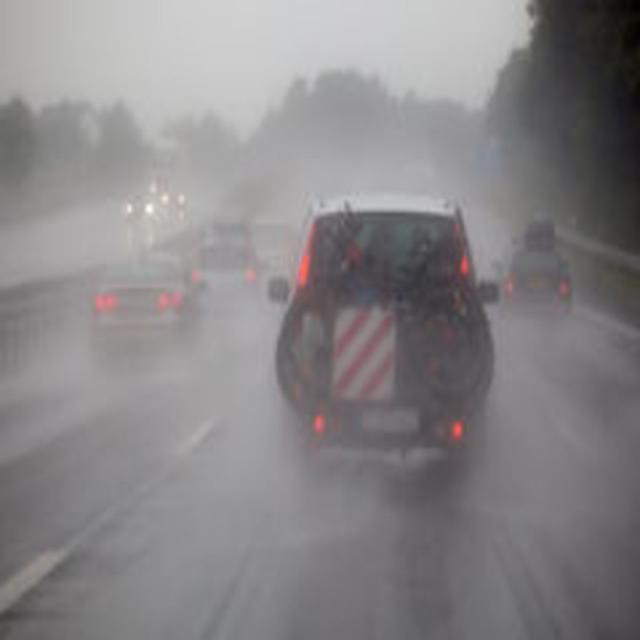bus: (149, 129, 185, 197)
car: (266, 195, 499, 537), (94, 252, 200, 371), (494, 240, 572, 337), (192, 240, 262, 320), (246, 218, 298, 308), (125, 187, 155, 222), (161, 186, 187, 216)
